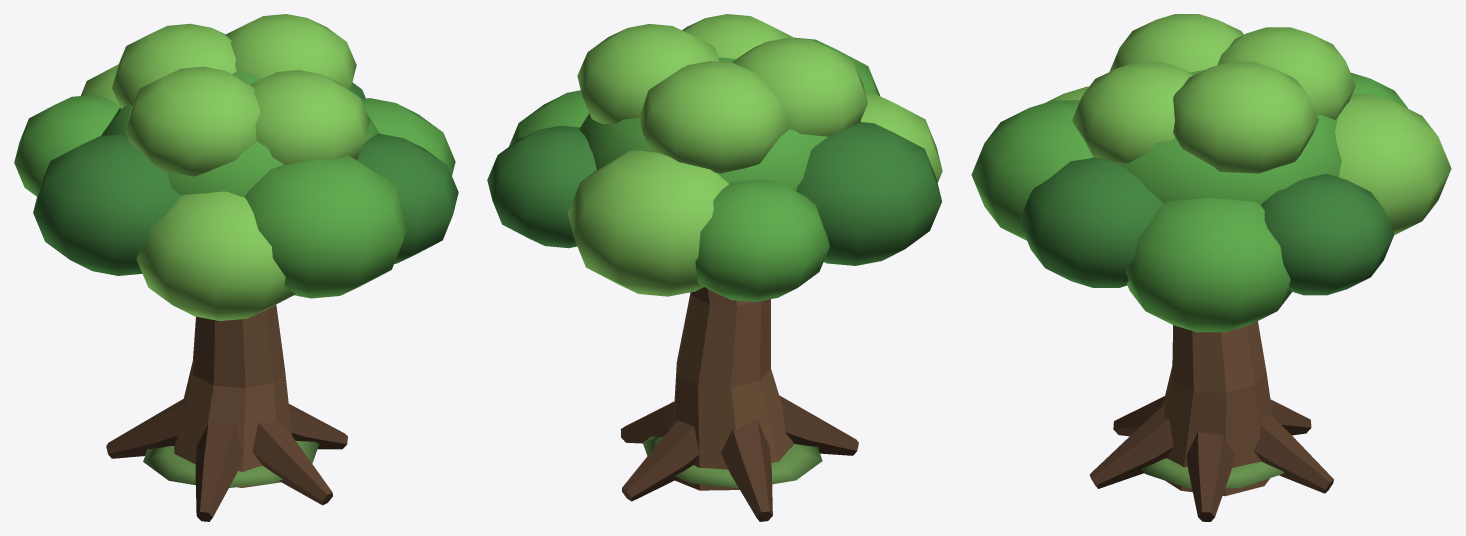
Rendered from GiantTreeA.fbx.
3 views of the same model, side by side, from view 1: azimuth 30°, elevation 25°; view 2: azimuth 150°, elevation 25°; view 3: azimuth 270°, elevation 25° (orthographic). The views are drawn at different scales.
Parts seen in each view (by area): view 1: Frame; view 2: Frame; view 3: Frame.
Part boxes in pixels (x1,y1,x2,y2): Frame: (14, 14, 458, 521); Frame: (487, 14, 942, 521); Frame: (971, 14, 1451, 521).
Size of the model in its own units: 12.03 by 12.24 by 12.37.
Materials: 1 (1 with a texture image).
